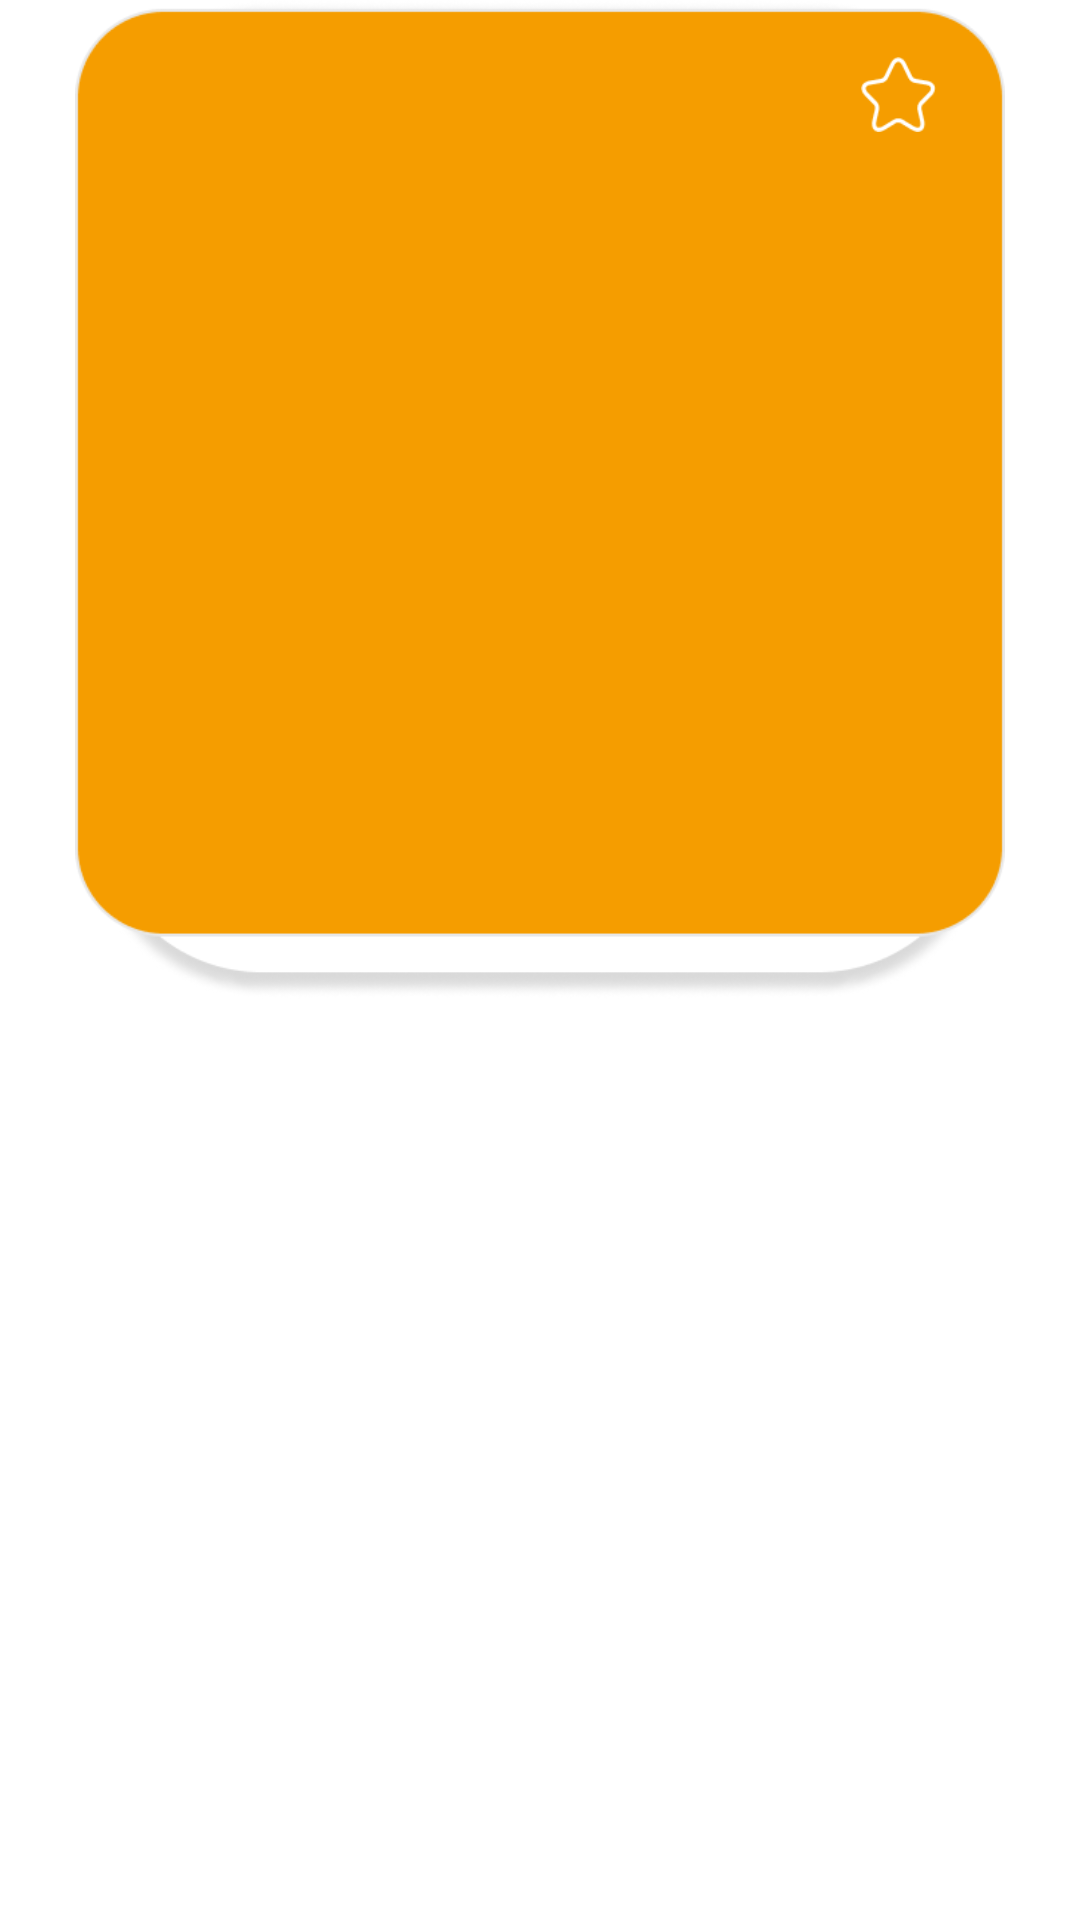

Named icons in this screenshot (1080*1920) and their centers, point (x, y):
star click unclick: point (898, 94)
